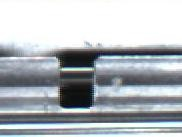oneu: (50, 51, 105, 115)
